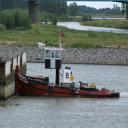tugboat: (16, 42, 122, 102)
